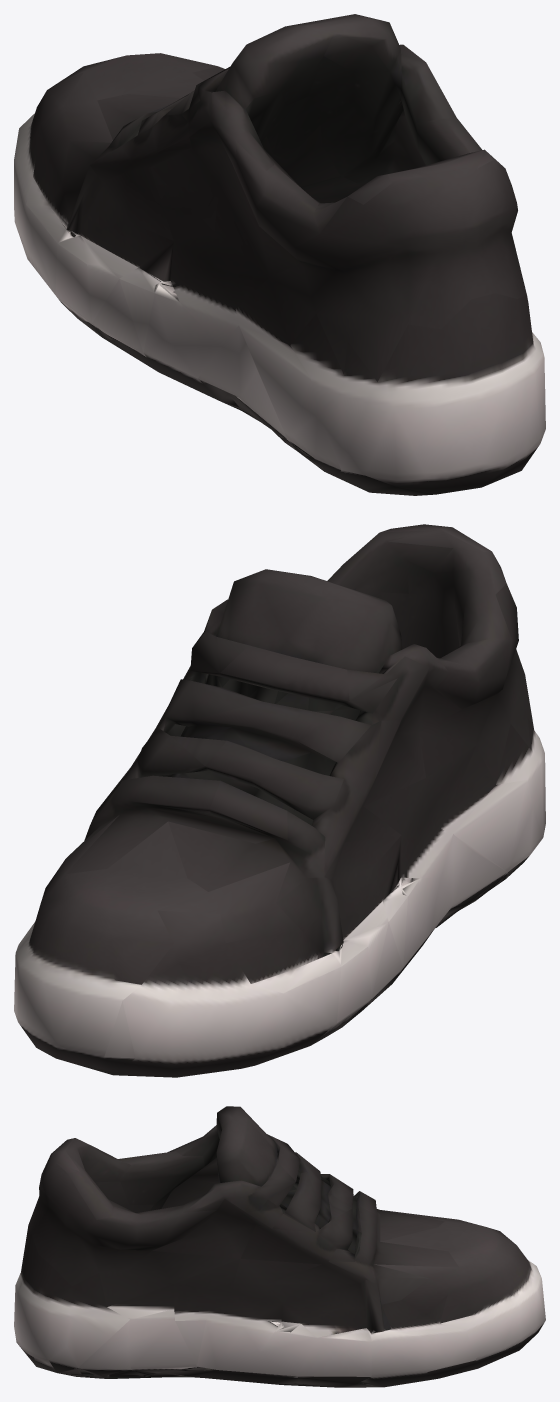
File: CIV_SHOES_BASE.fbx
3 views of the same model, one above another, from view 1: azimuth 30°, elevation 25°; view 2: azimuth 150°, elevation 25°; view 3: azimuth 270°, elevation 25° (orthographic). The views are drawn at different scales.
Parts seen in each view (by area): view 1: Everyday sneaker — CIV_SHOES_BASE; view 2: Everyday sneaker — CIV_SHOES_BASE; view 3: Everyday sneaker — CIV_SHOES_BASE.
Part boxes in pixels (bbox=[...]): Everyday sneaker — CIV_SHOES_BASE: bbox=[14, 14, 545, 495]; Everyday sneaker — CIV_SHOES_BASE: bbox=[14, 524, 545, 1077]; Everyday sneaker — CIV_SHOES_BASE: bbox=[14, 1106, 545, 1387].
Bounding box in the file's own units: 32.26 × 38.27 × 80.
1 material, 1 textured.
